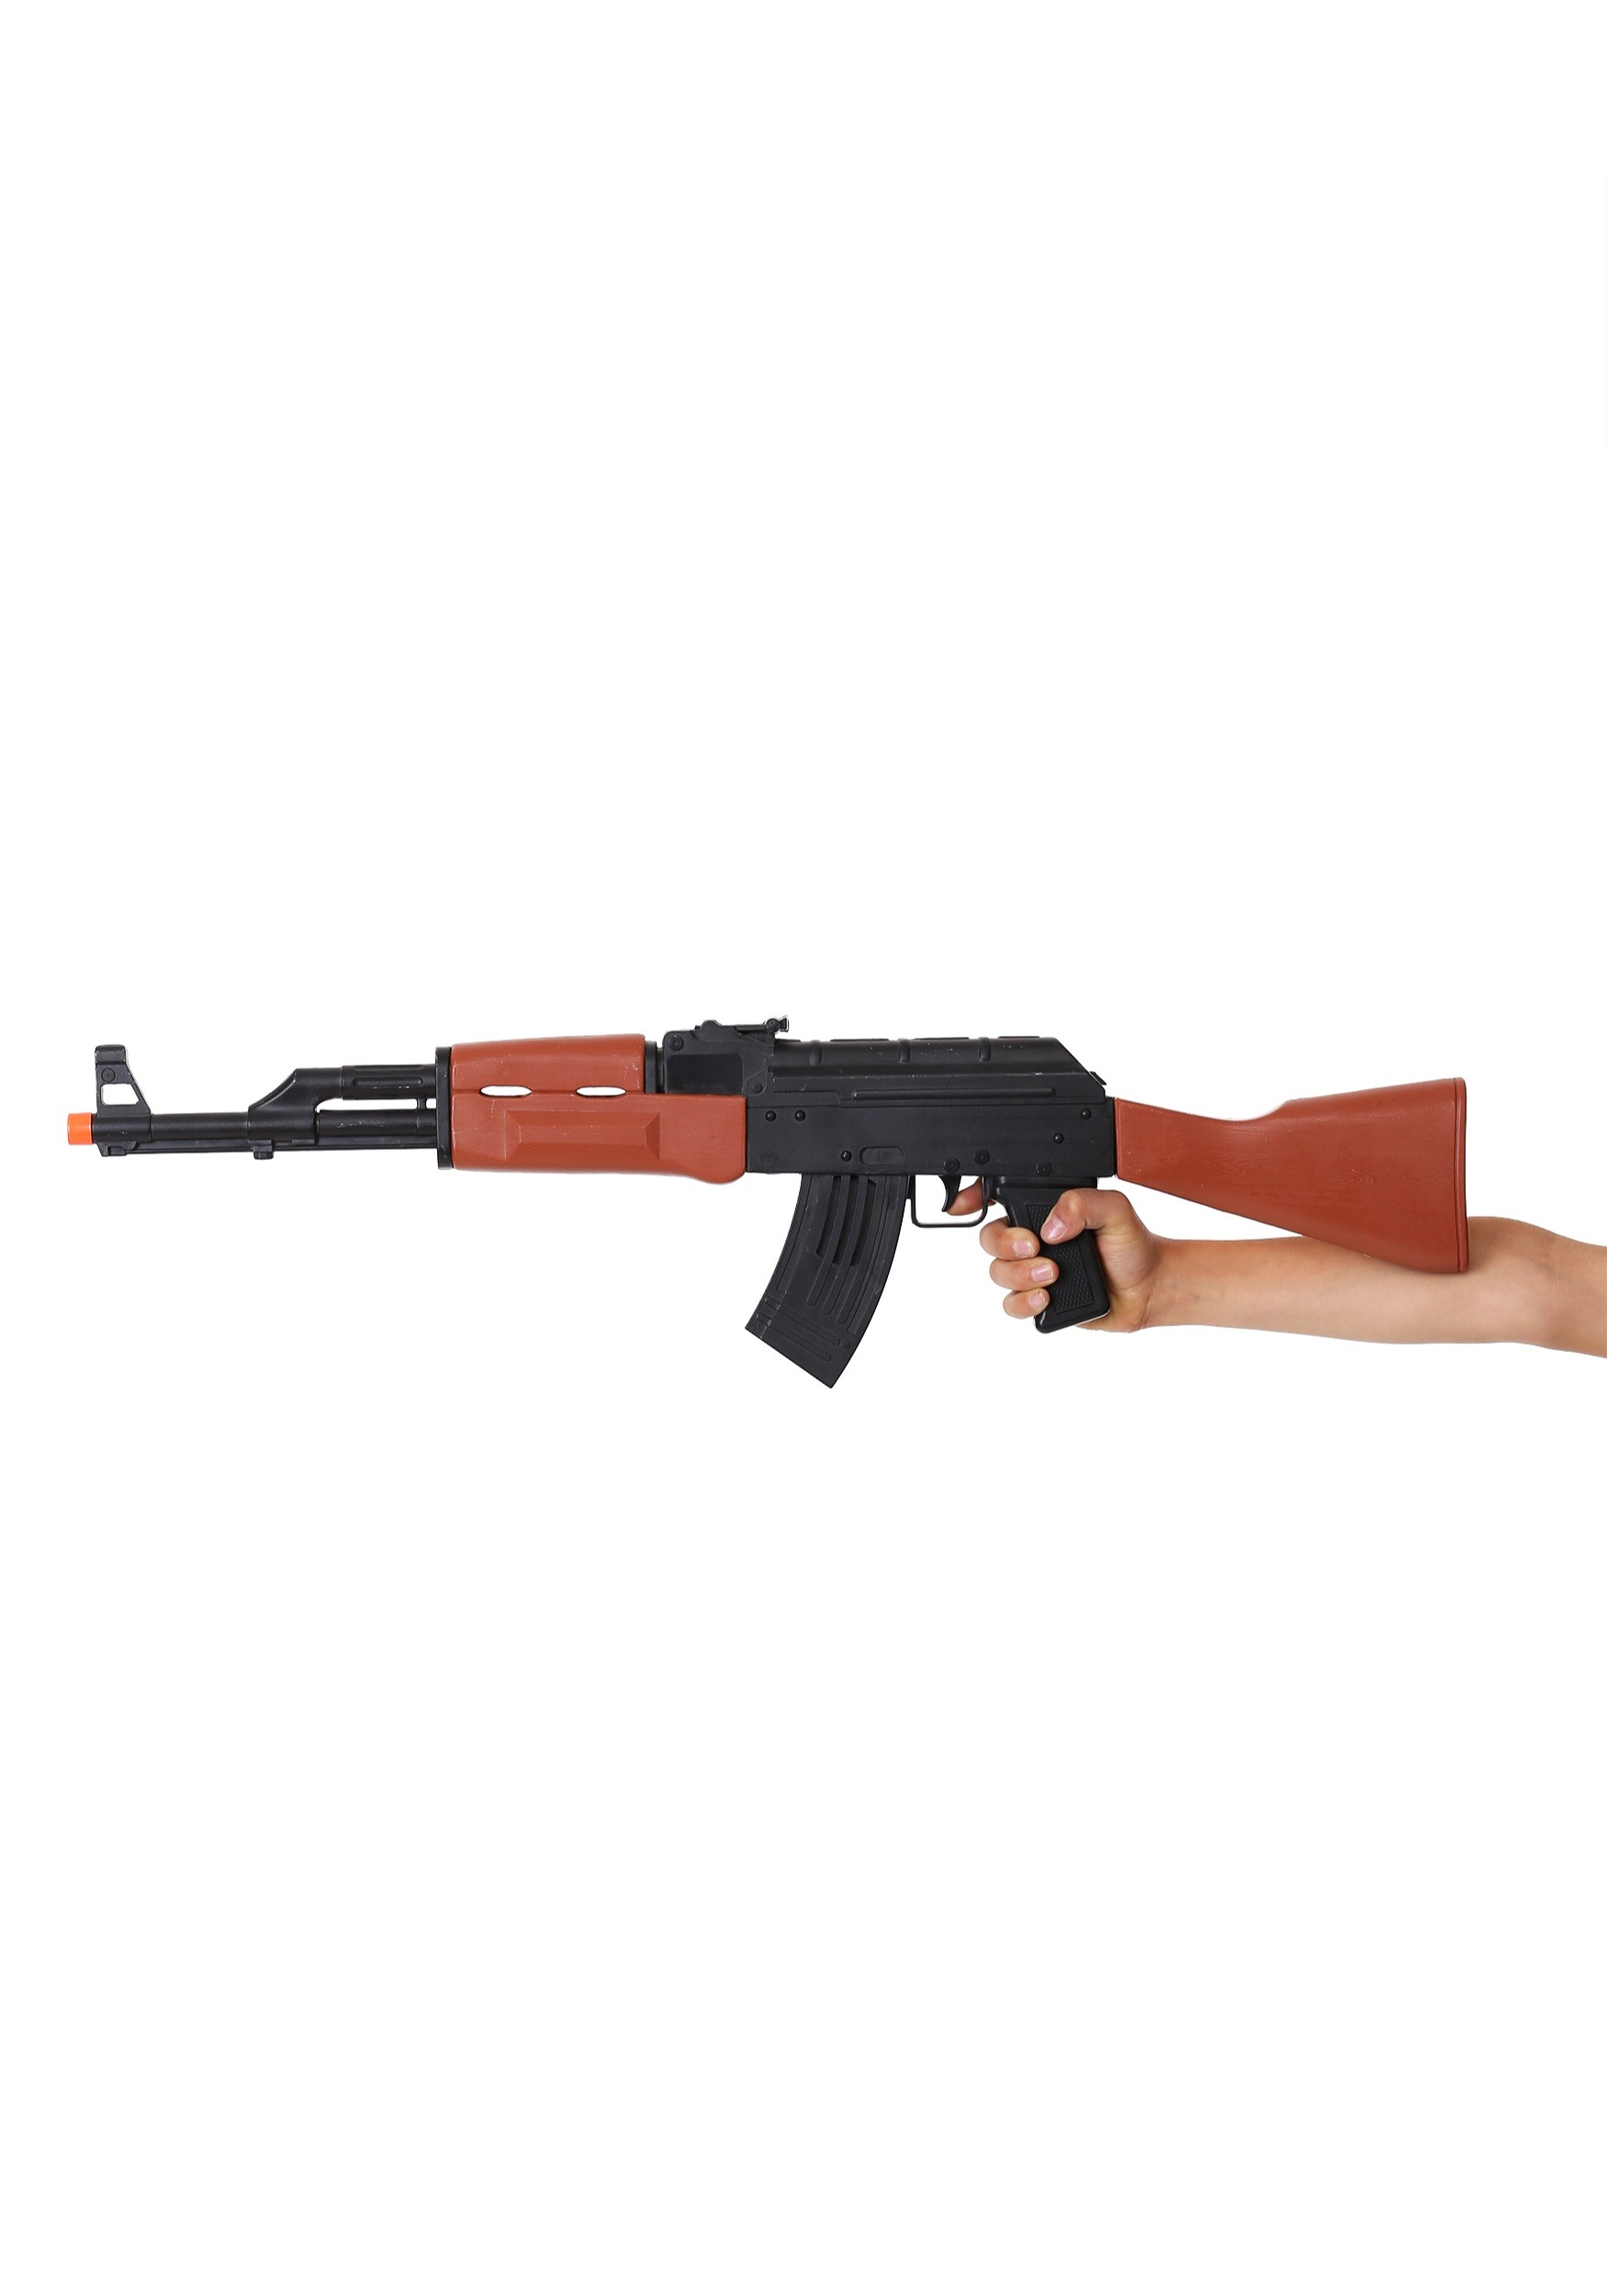Arma Falsa: (56, 1003, 1499, 1404)
